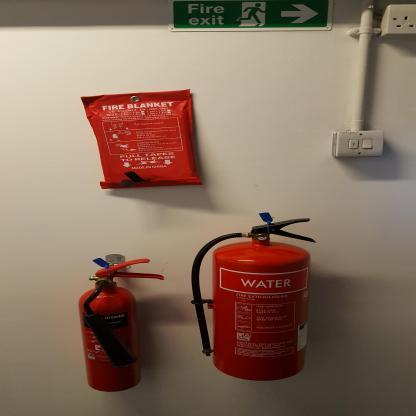Fire Extinguisher: (186, 207, 320, 393), (62, 242, 164, 401)
